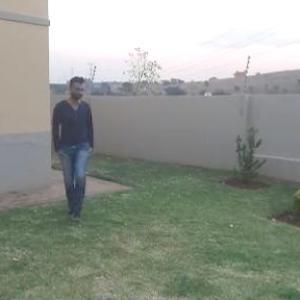follow: (39, 68, 94, 233)
